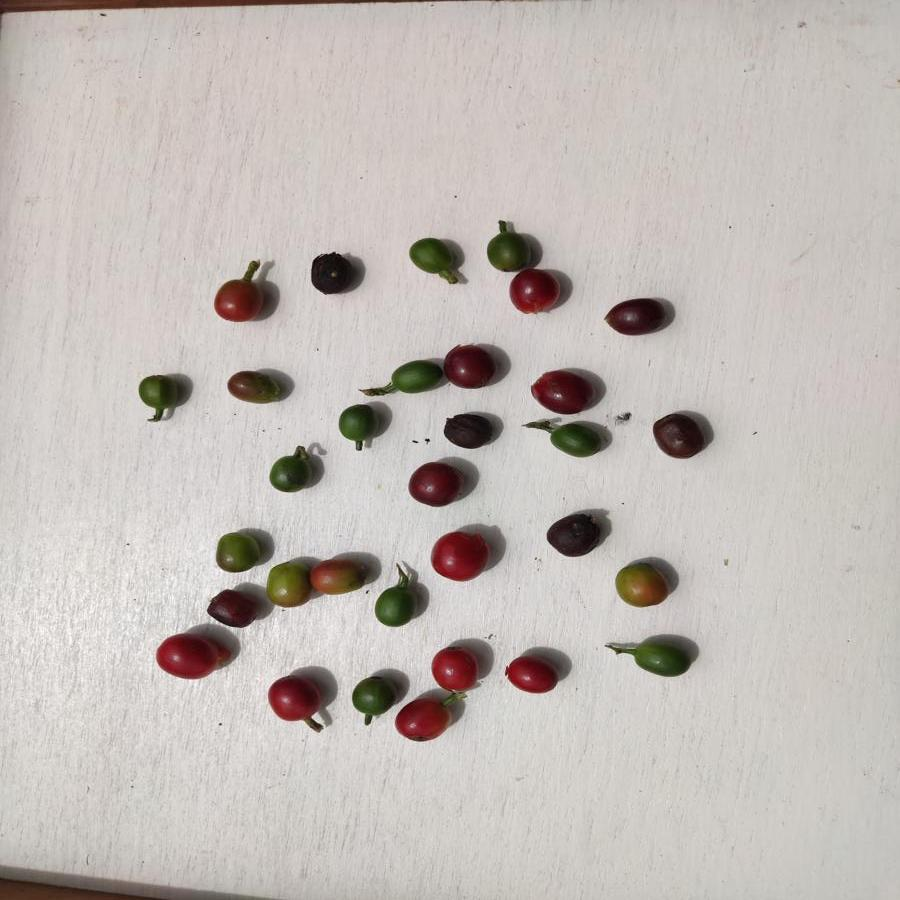Inmaduro: (548, 420, 605, 459), (630, 642, 691, 677), (404, 238, 458, 275), (485, 231, 535, 270), (388, 360, 441, 395), (373, 586, 419, 626), (350, 672, 393, 714), (335, 403, 381, 442), (269, 453, 312, 494), (137, 372, 181, 410)
Maduro: (156, 632, 224, 679), (429, 529, 487, 583), (505, 269, 562, 319), (265, 674, 320, 724), (392, 698, 450, 743), (428, 645, 481, 692), (212, 280, 264, 323), (505, 656, 559, 693)
Pinton: (612, 559, 671, 610), (223, 368, 284, 408), (265, 560, 314, 606), (308, 556, 364, 596), (212, 528, 262, 572)
Sobremaduro: (529, 369, 596, 414), (602, 295, 666, 337), (545, 513, 602, 560), (649, 412, 703, 460), (306, 250, 358, 297), (443, 343, 495, 388), (409, 463, 462, 507), (205, 585, 259, 628), (442, 410, 495, 451)
